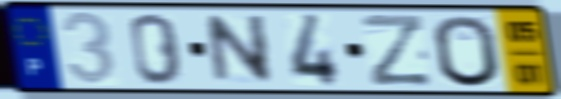0: (127, 10, 183, 87)
3: (59, 9, 121, 89)
4: (288, 11, 341, 89)
N: (203, 13, 277, 87)
O: (430, 13, 504, 90)
Z: (358, 12, 436, 89)
